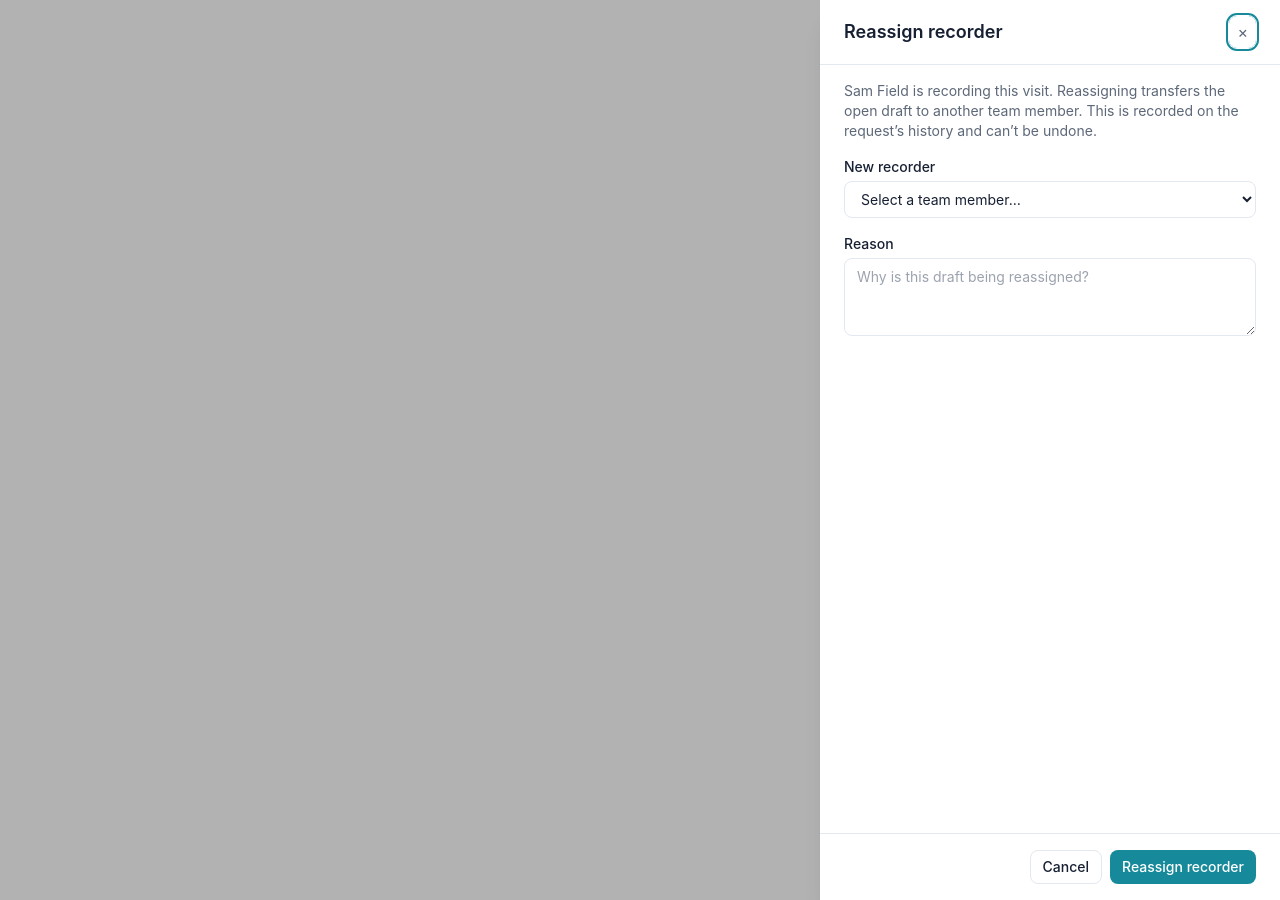
Test: ActualWorkRecoveryDrawer › keeps the drawer open and shows a message on 'ineligible'
Select "Jordan Lead · Operator" in the dropdown labelled "New recorder" at [1050, 200], box top-left (844, 181), bottom-right (1256, 218)
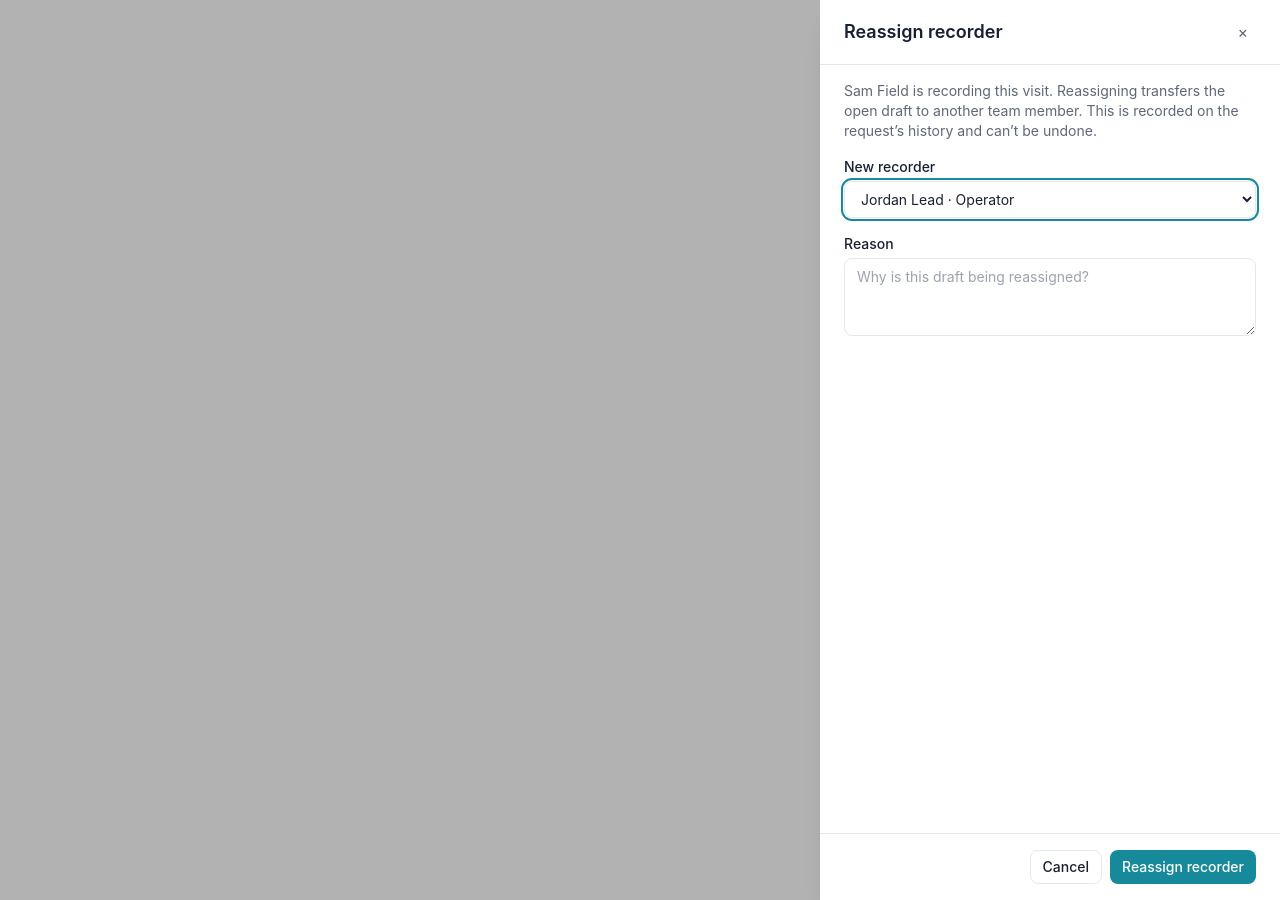
Type "reason" into the text box labelled "Reason" at [1050, 297], box top-left (844, 258), bottom-right (1256, 336)
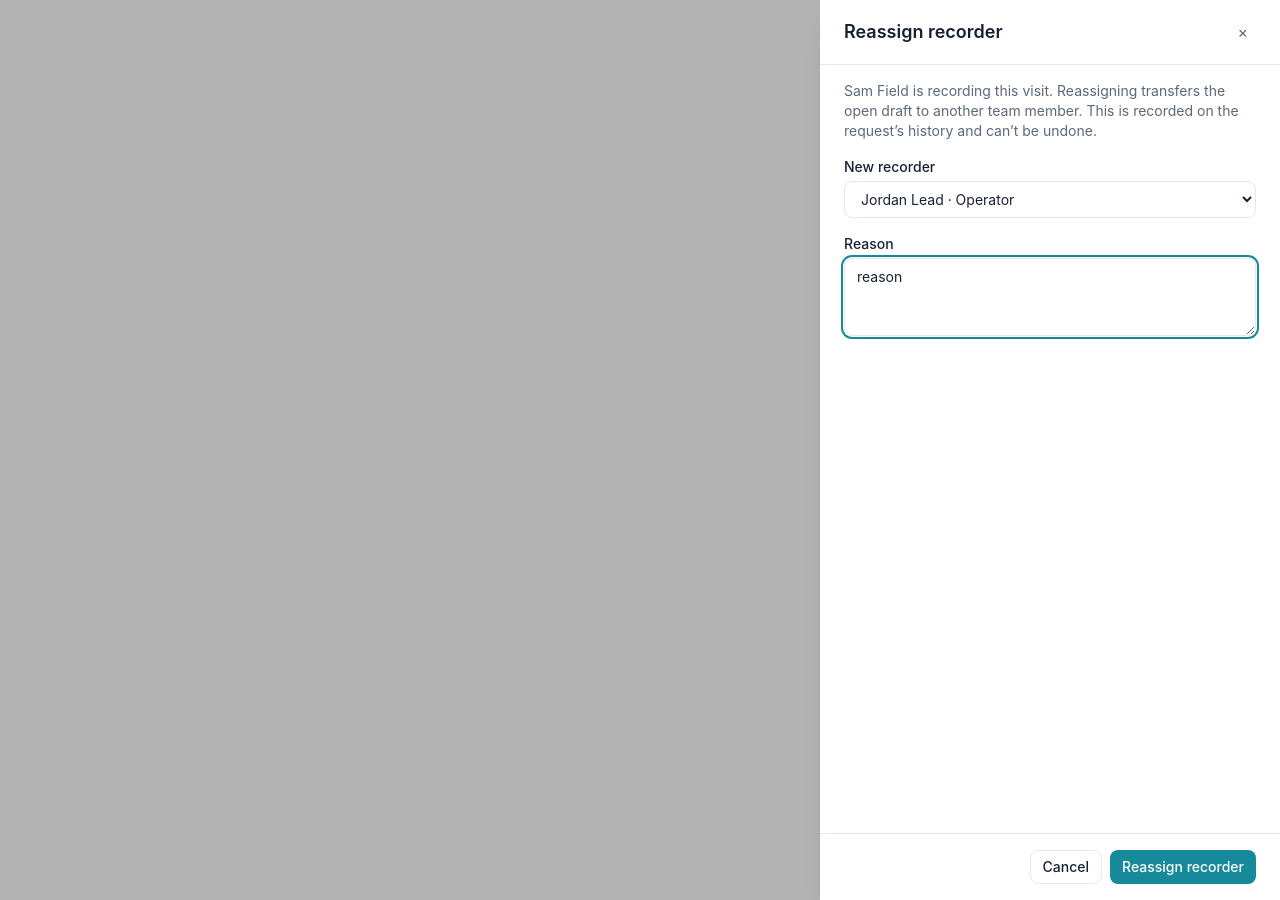
Click the button "Reassign recorder" at [1183, 867], box top-left (1110, 850), bottom-right (1256, 884)
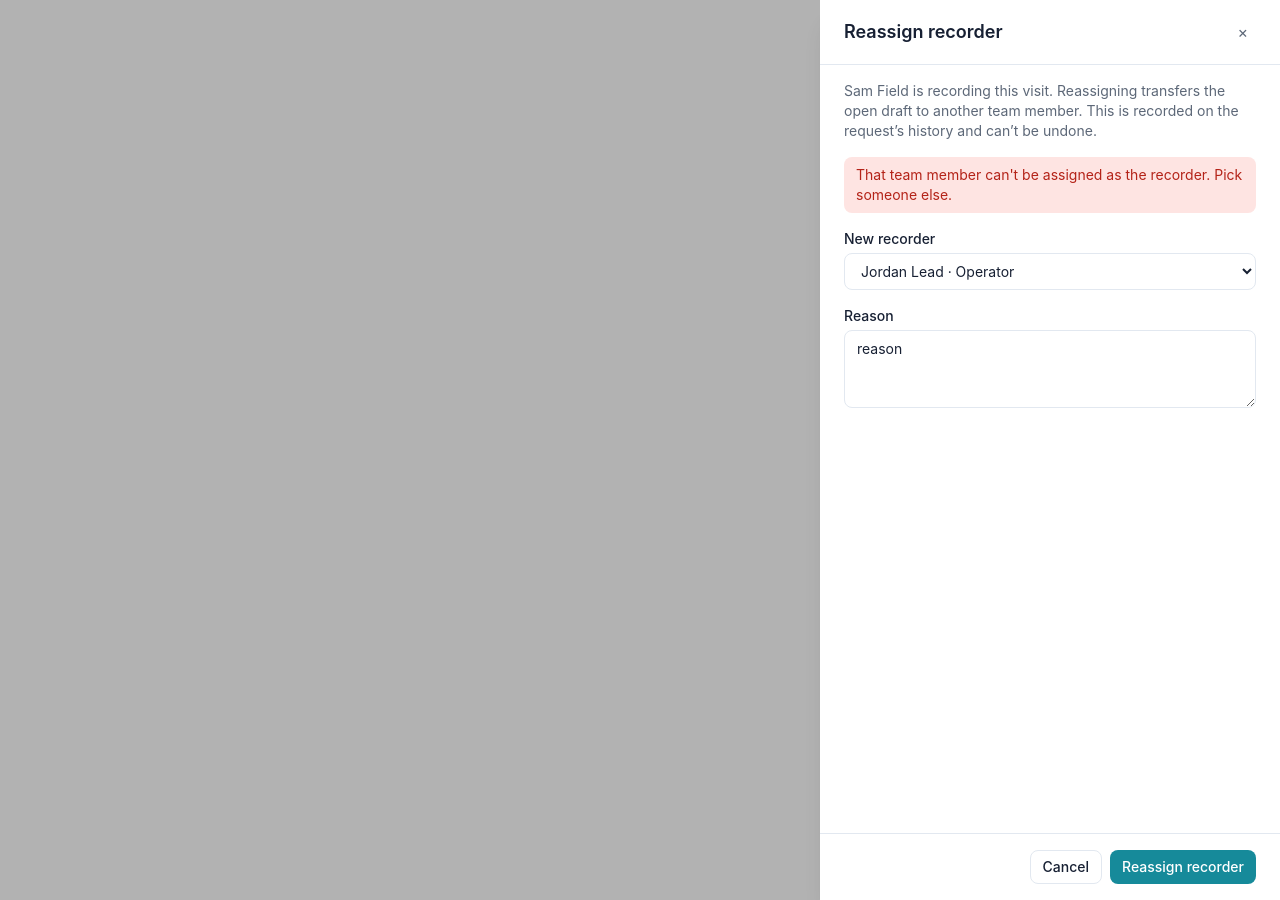
Now the text "can't be assigned as the recorder" is shown, box top-left (856, 166), bottom-right (1242, 203)
